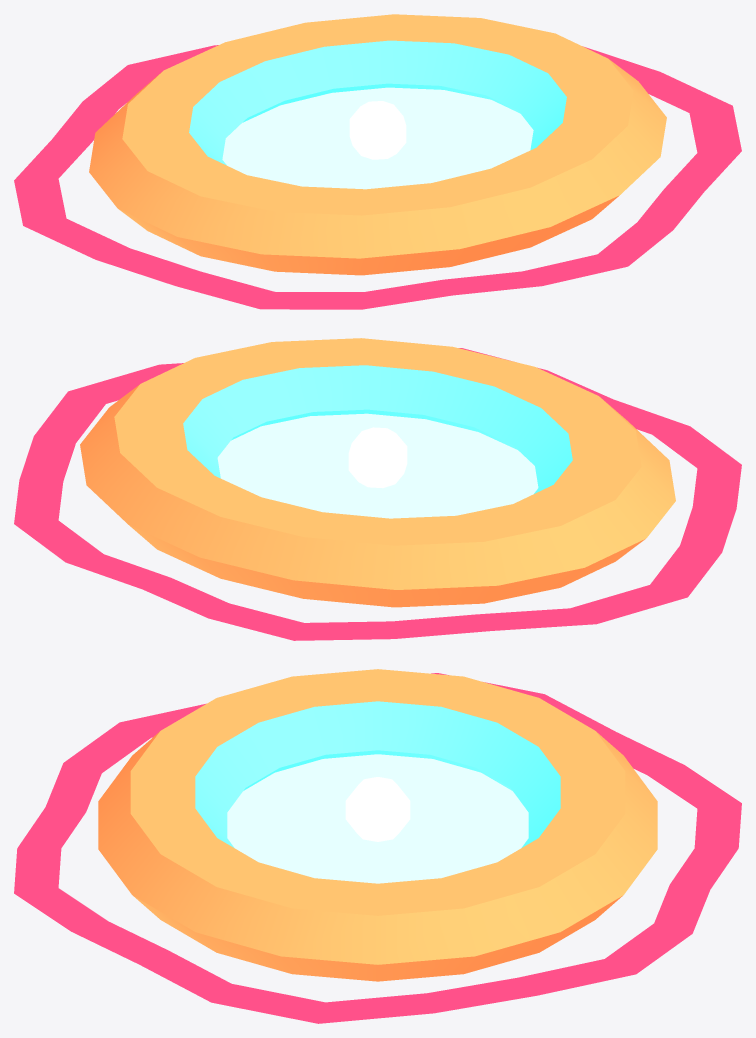
File: planetary_nebula.glb
3 views of the same model, one above another, from view 1: azimuth 30°, elevation 25°; view 2: azimuth 150°, elevation 25°; view 3: azimuth 270°, elevation 25° (orthographic). The views are drawn at different scales.
Visible parts, largest first — view 1: body; view 2: body; view 3: body.
Part boxes in pixels (bbox=[...]): body: bbox=[14, 14, 741, 309]; body: bbox=[14, 338, 741, 640]; body: bbox=[14, 669, 741, 1023].
Size of the model in its own units: 196 by 20.57 by 172.
